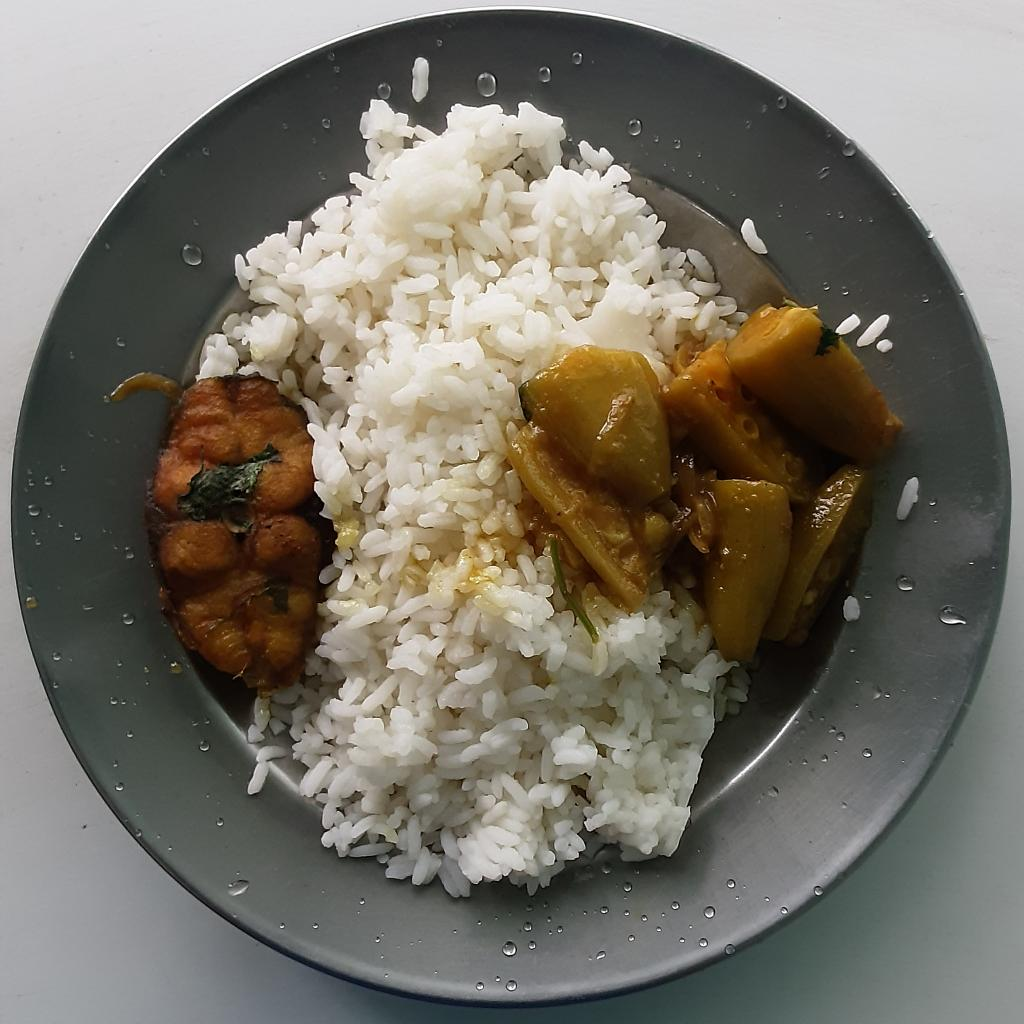fish: (143, 375, 333, 688)
potol: (503, 297, 904, 662)
rice: (195, 101, 757, 892)
